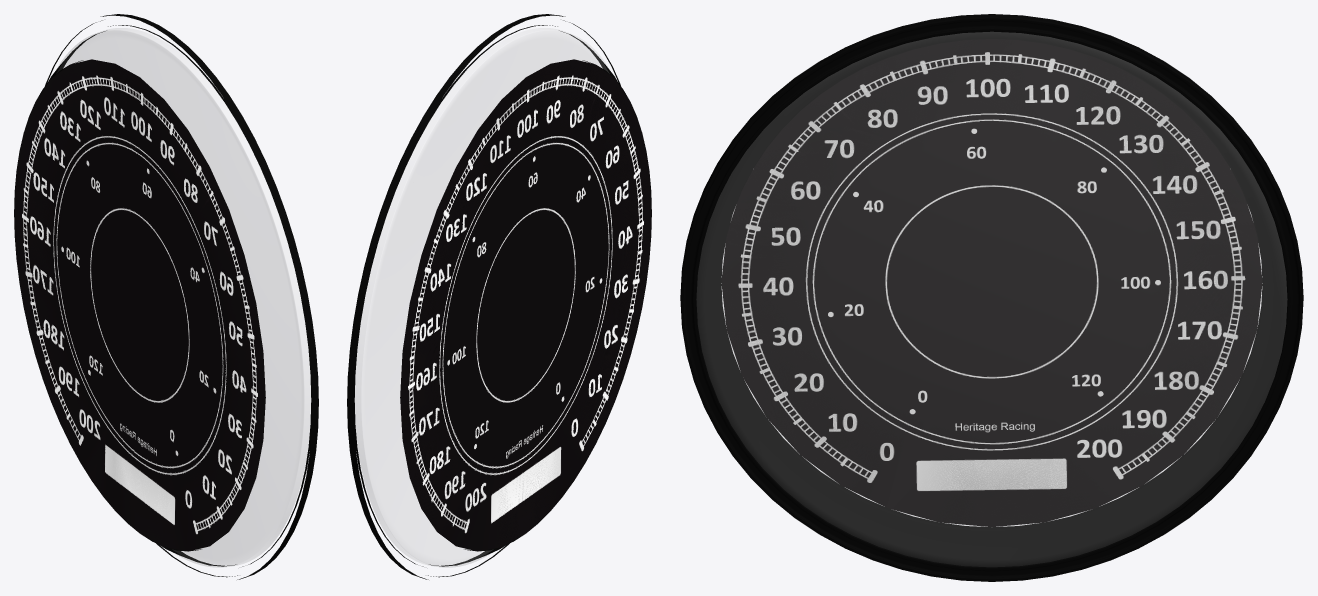
The model's file is gauge.glb.
3 views of the same model, side by side, from view 1: azimuth 30°, elevation 25°; view 2: azimuth 150°, elevation 25°; view 3: azimuth 270°, elevation 25° (orthographic). The views are drawn at different scales.
Parts seen in each view (by area): view 1: Speedometer_Gauge, Speedometer_Glass, Speedometer_Frame; view 2: Speedometer_Gauge, Speedometer_Glass, Speedometer_Frame; view 3: Speedometer_Glass, Speedometer_Gauge, Speedometer_Frame.
Boxes of the visible parts, x1,y1,x2,y2 form: Speedometer_Gauge: [14, 59, 265, 551]; Speedometer_Glass: [57, 28, 310, 567]; Speedometer_Frame: [14, 14, 318, 579]; Speedometer_Gauge: [400, 59, 651, 551]; Speedometer_Glass: [355, 28, 608, 567]; Speedometer_Frame: [347, 14, 651, 579]; Speedometer_Glass: [696, 32, 1287, 566]; Speedometer_Gauge: [721, 39, 1262, 526]; Speedometer_Frame: [680, 14, 1303, 581].
Bounding box in the file's own units: 0.0124 × 0.1224 × 0.1224.
Materials: 3 (1 with a texture image).
